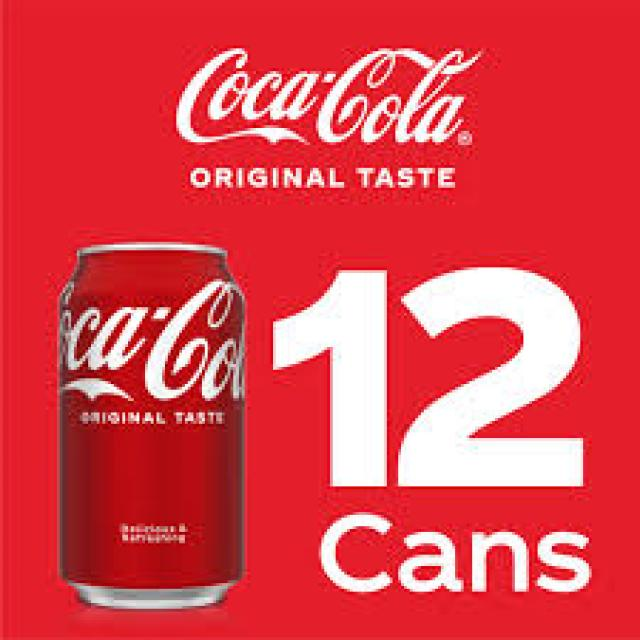Cans: (46, 236, 256, 617)
